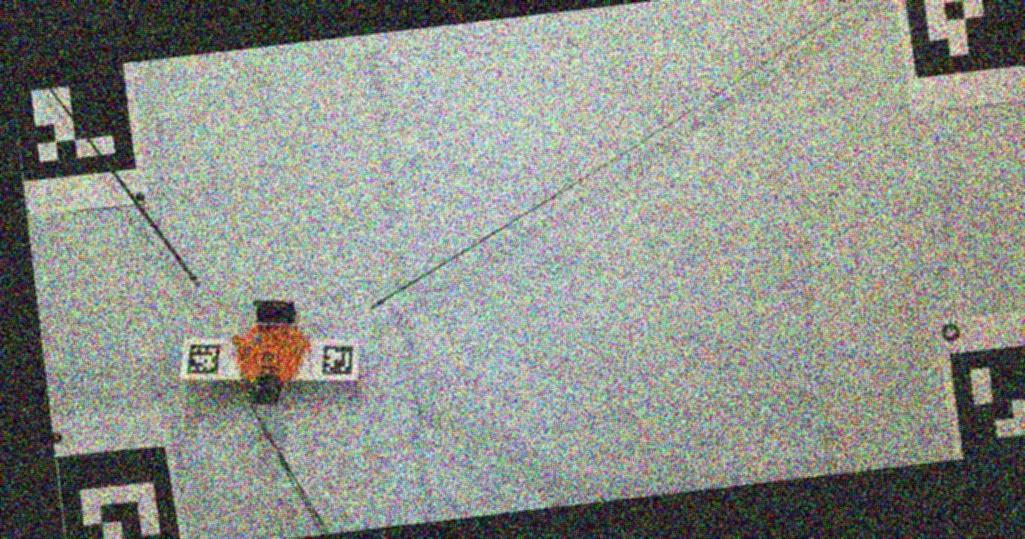robot: (232, 300, 312, 405)
